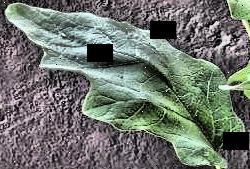HEALTHY: (1, 0, 250, 169)
